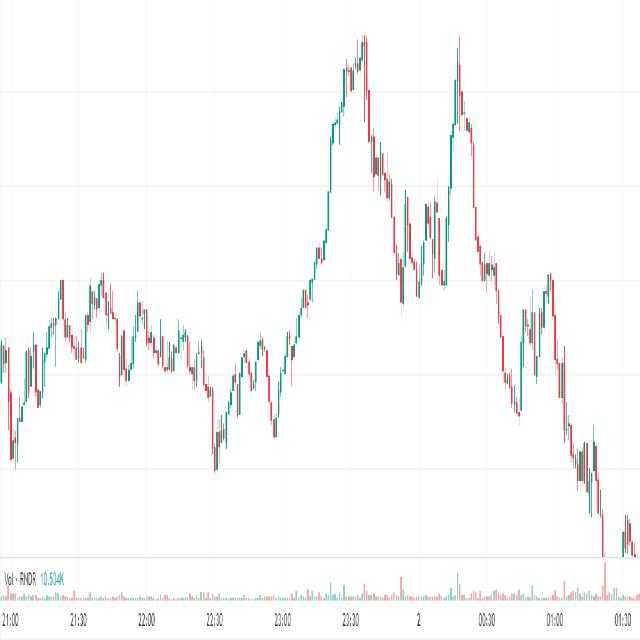Descending-Triangle: (40, 237, 218, 386)
